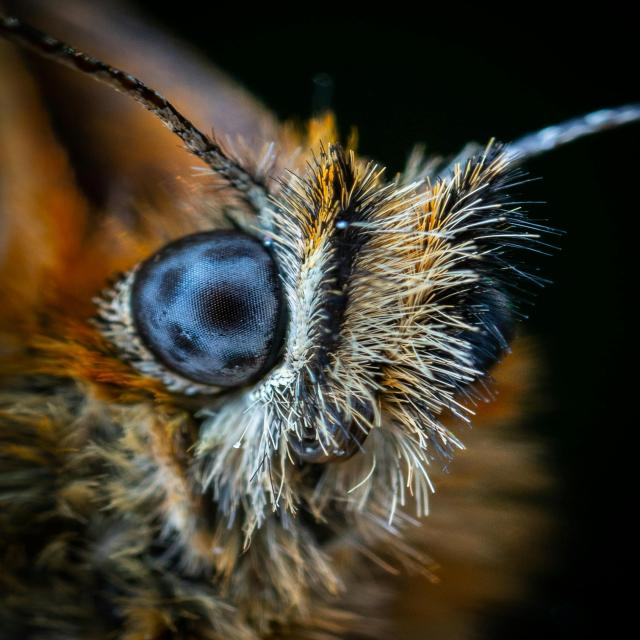bee: (7, 4, 639, 634)
